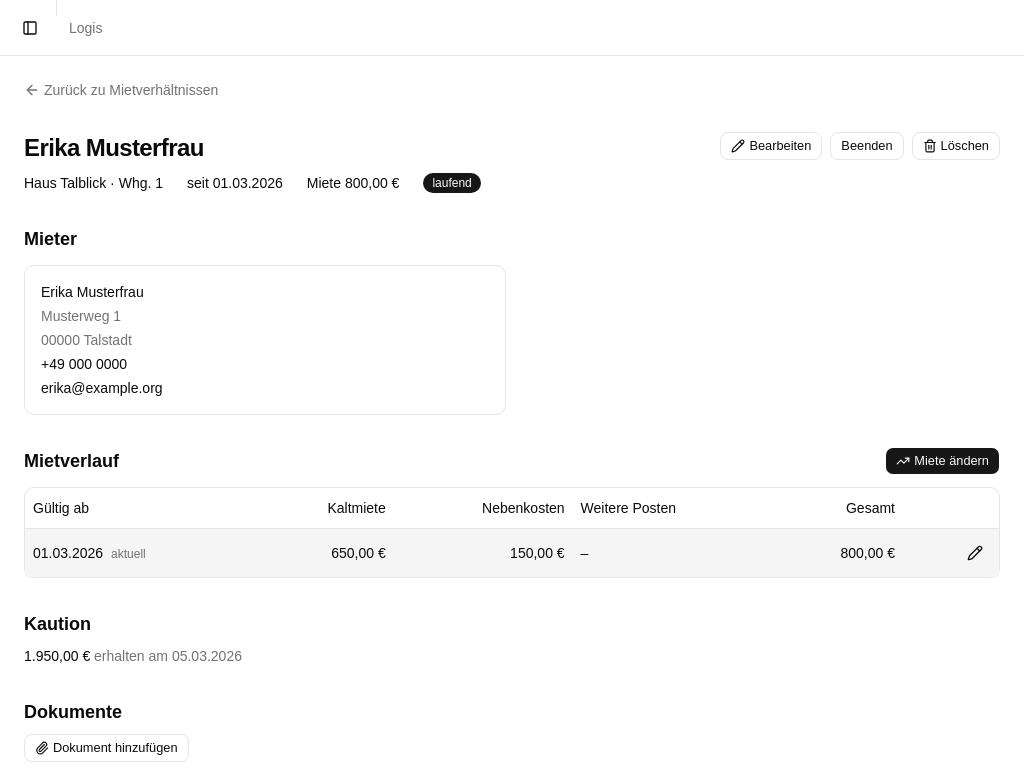
it: Tenancy page › ends a tenancy and offers „Mieterdaten löschen“ only after the end
Click the button "Beenden": (867, 146) [830,132,904,160]
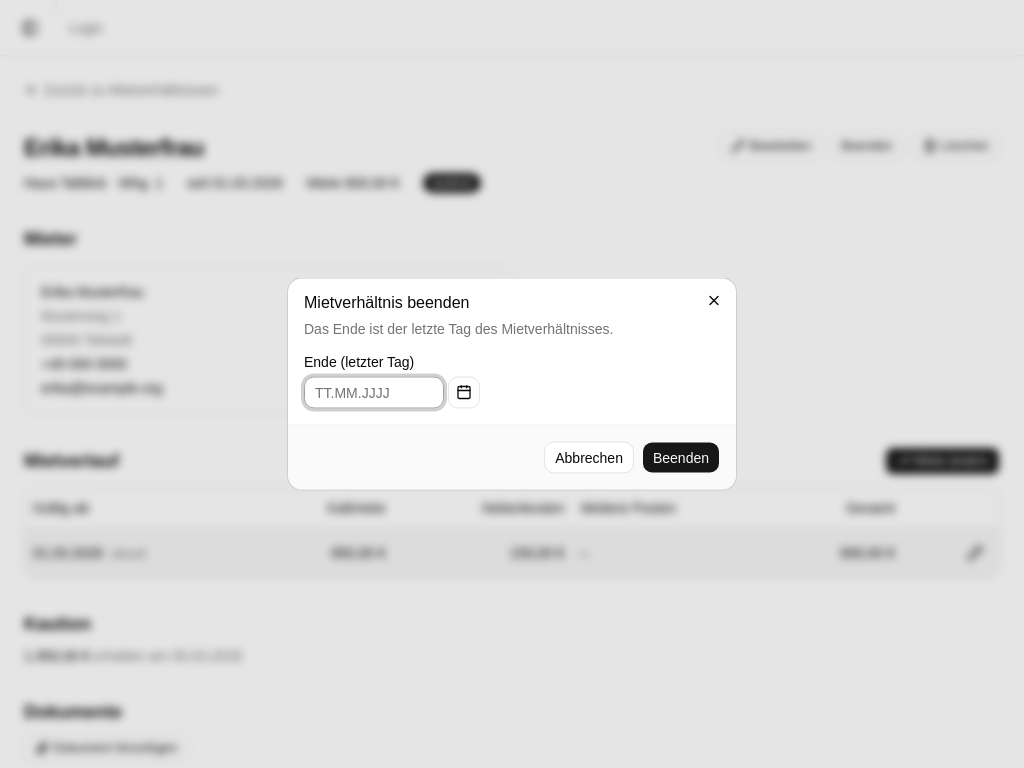
In the field labelled "Ende (letzter Tag)": (374, 392) [304,376,444,408], type "31.05.2026"
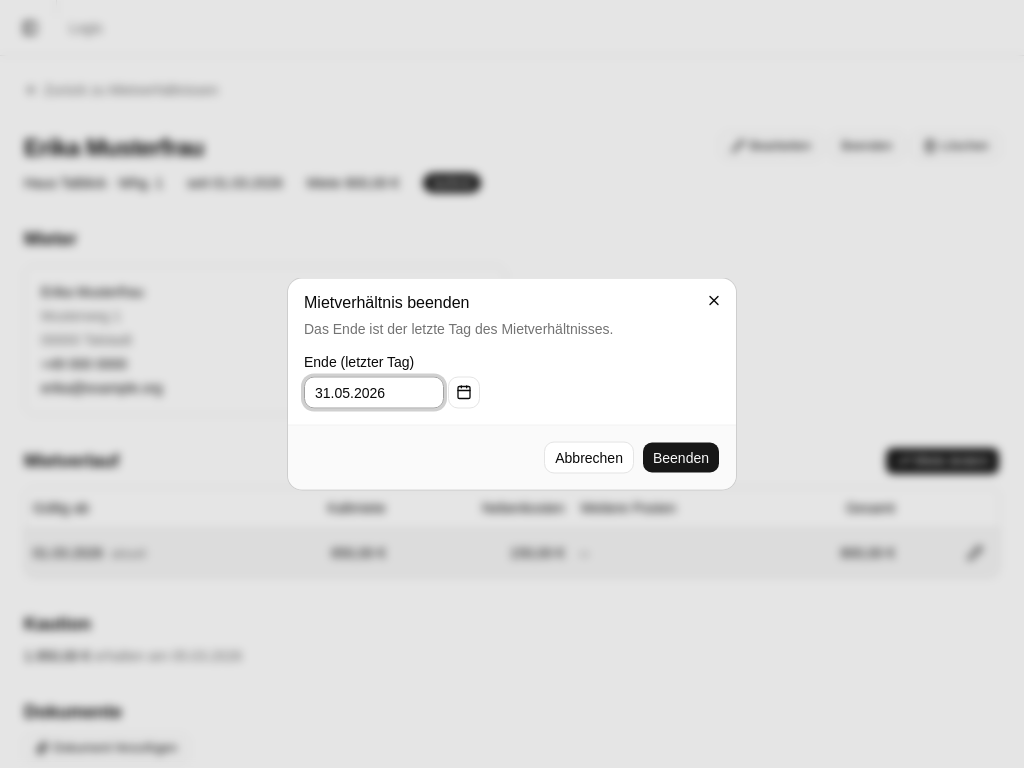
Click the button "Beenden": (681, 458) [642,442,720,474]
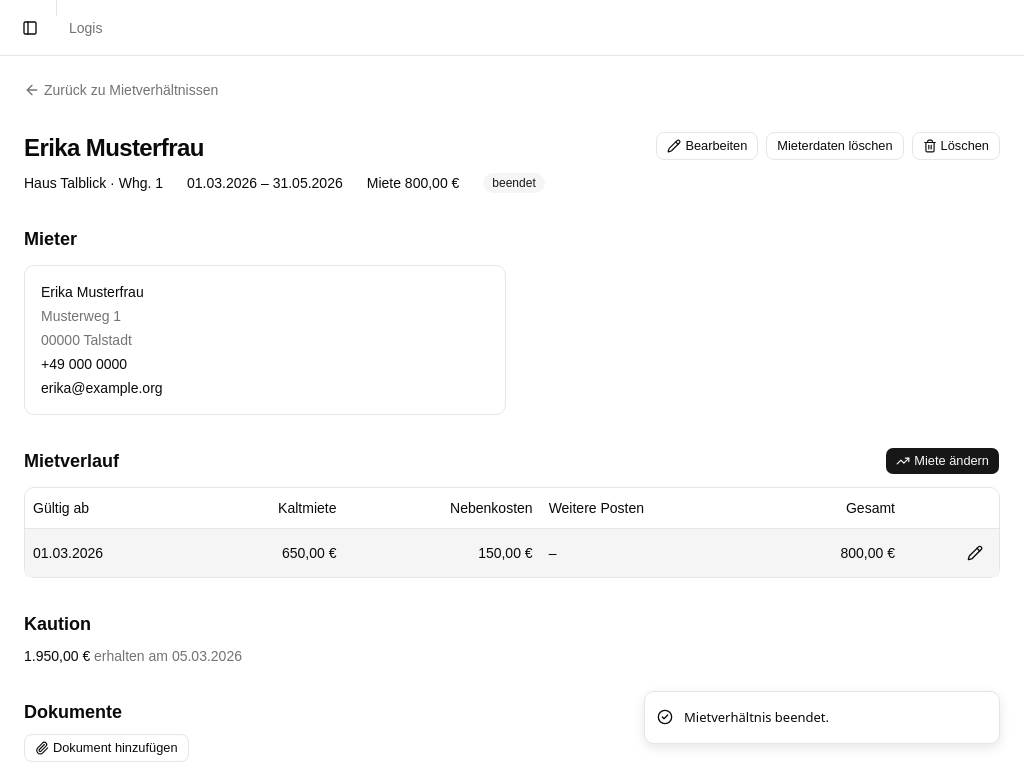
Now the element named "Wichtige Angaben" shows "01.03.2026 – 31.05.2026", box [187,174,343,190]
Now the element named "Wichtige Angaben" shows "beendet", box [492,176,536,190]
Now the button "Beenden" is gone
Click the button "Mieterdaten löschen": (835, 146) [766,132,904,160]
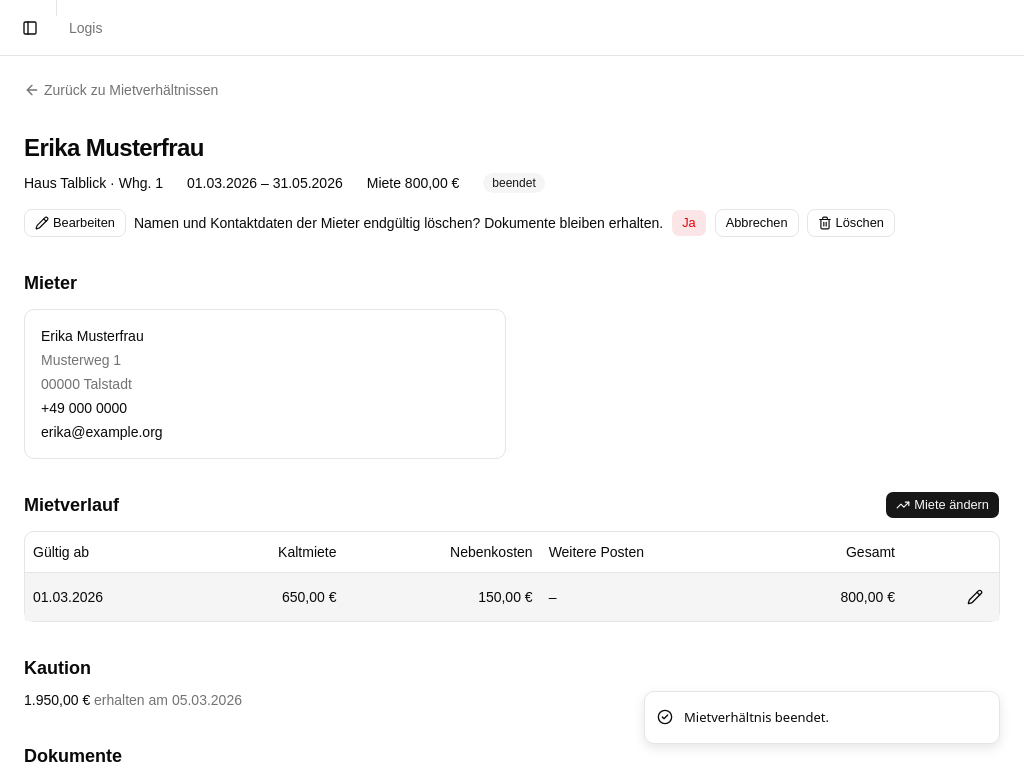
Click the button "Ja": (689, 223) [671,209,707,237]
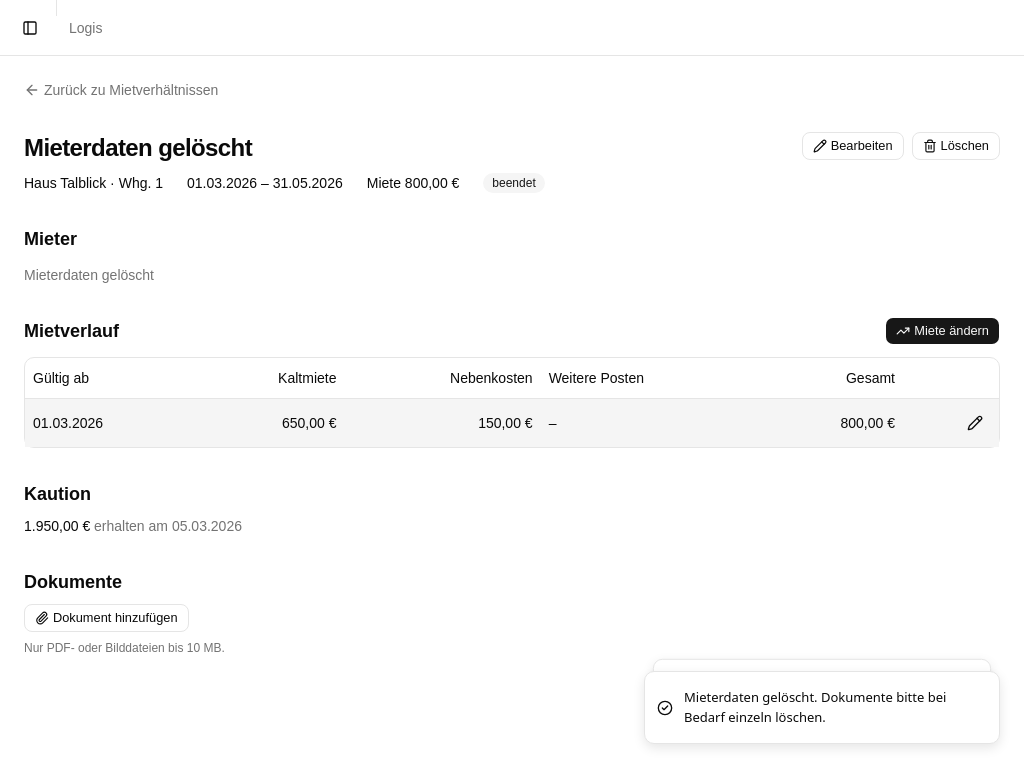
Expected: the button "Mieterdaten löschen" is not shown
Now the heading "Mieterdaten gelöscht" is shown, box [24,134,252,161]
Now the element "Mieter" shows "Mieterdaten gelöscht", box [24,267,154,283]
